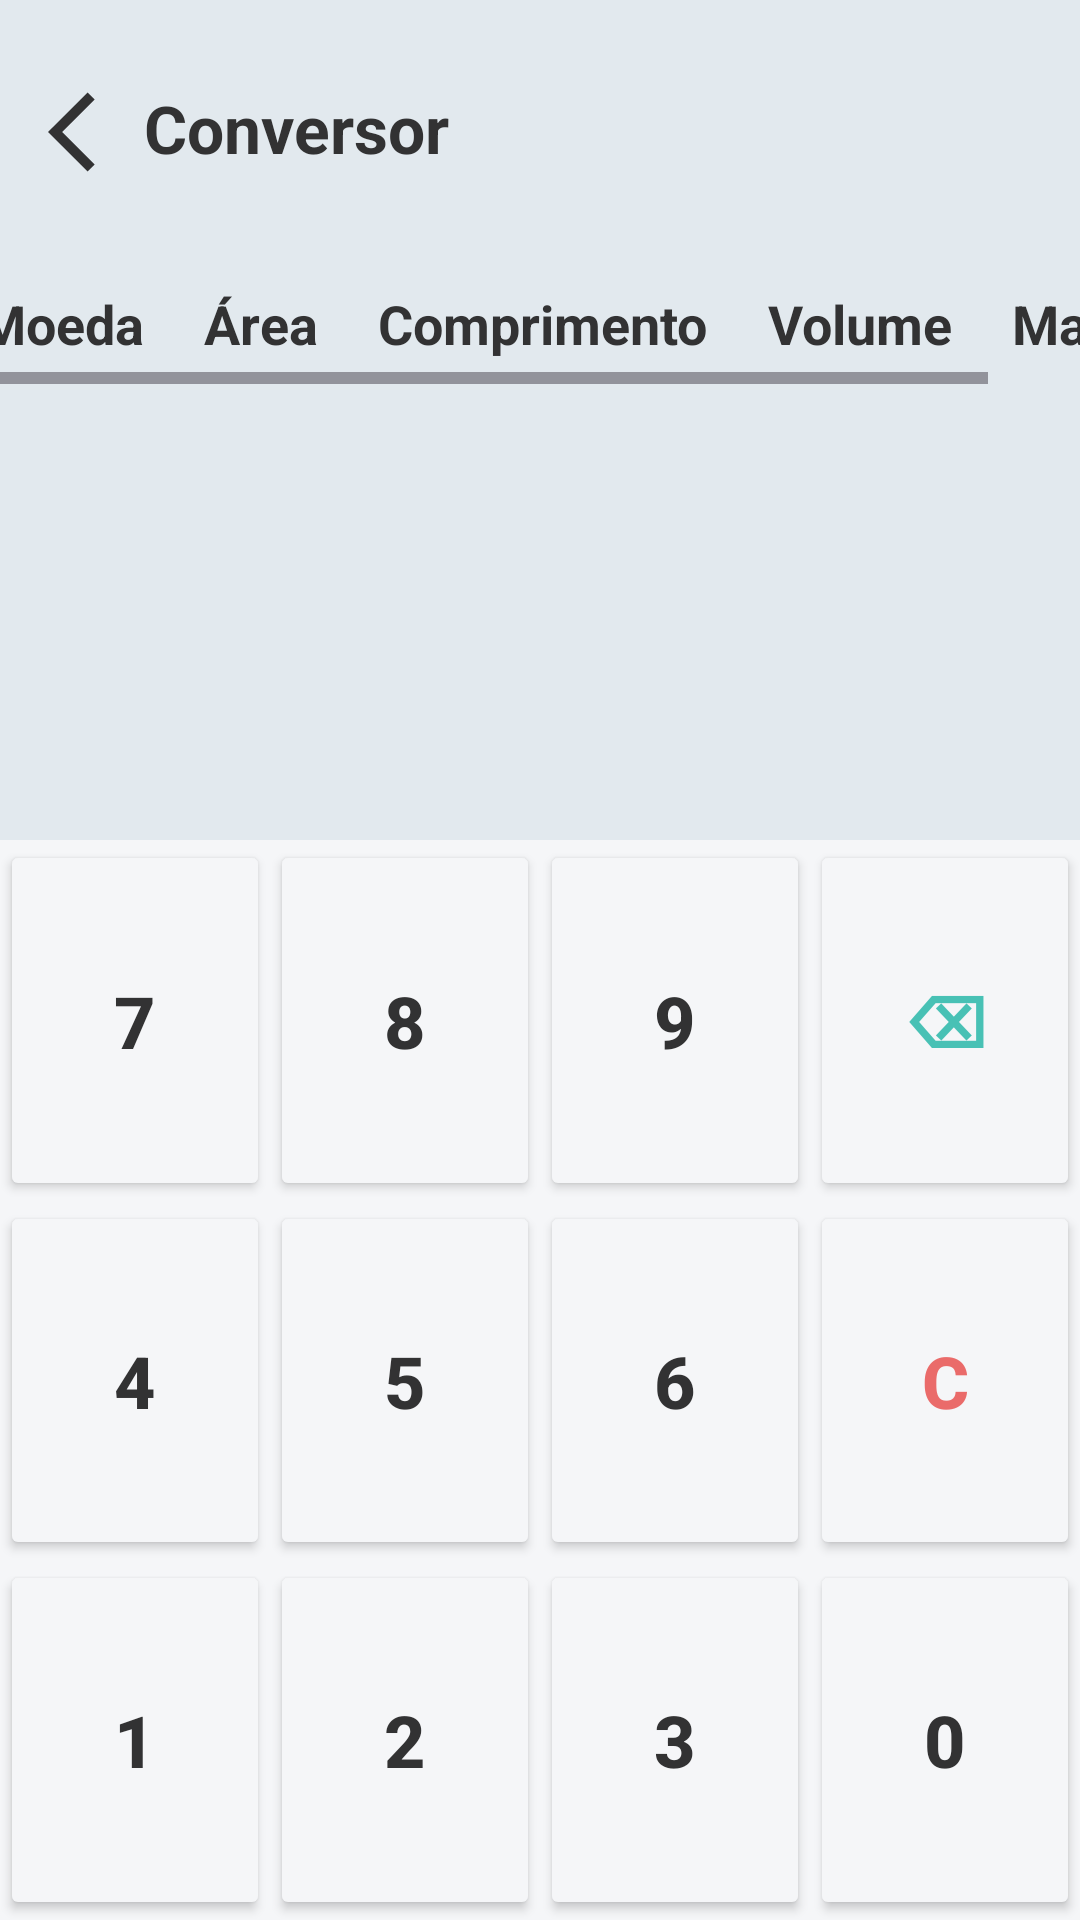

Screen size 1080px x 1920px. Icon name, then its box in pixels as box=[x1, y1, x2, y2]:
arrow back: box=[48, 92, 95, 172]
